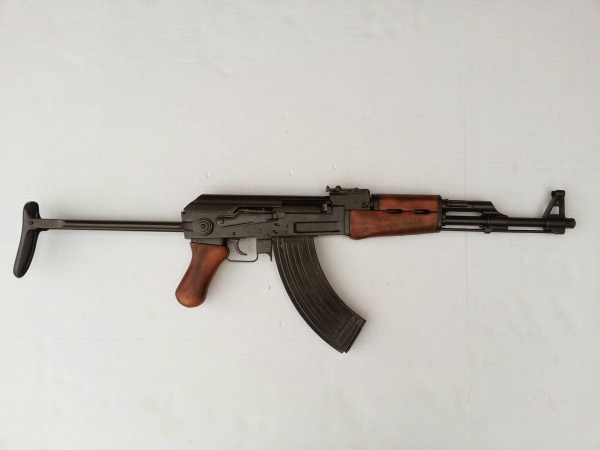ak47: (13, 187, 575, 352)
